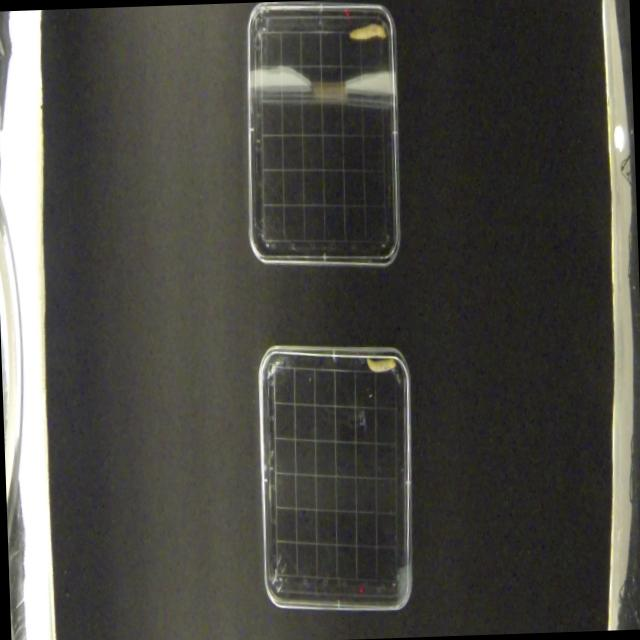larva: (348, 21, 387, 41)
